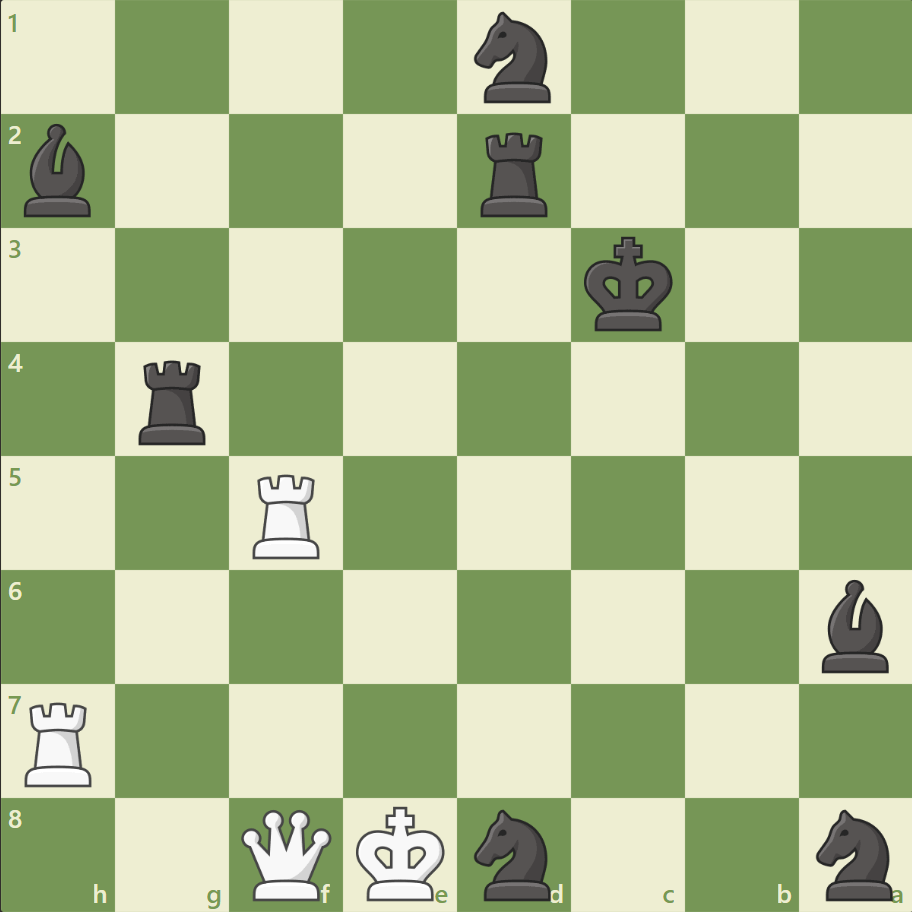K: (351, 798, 451, 906)
Q: (237, 804, 336, 903)
R: (19, 693, 102, 790), (246, 466, 329, 563)
b: (812, 574, 896, 676), (17, 120, 101, 222)
k: (579, 231, 679, 339)
n: (465, 7, 562, 110), (806, 802, 903, 904), (465, 802, 562, 904)
r: (473, 125, 556, 222), (133, 352, 215, 449)
